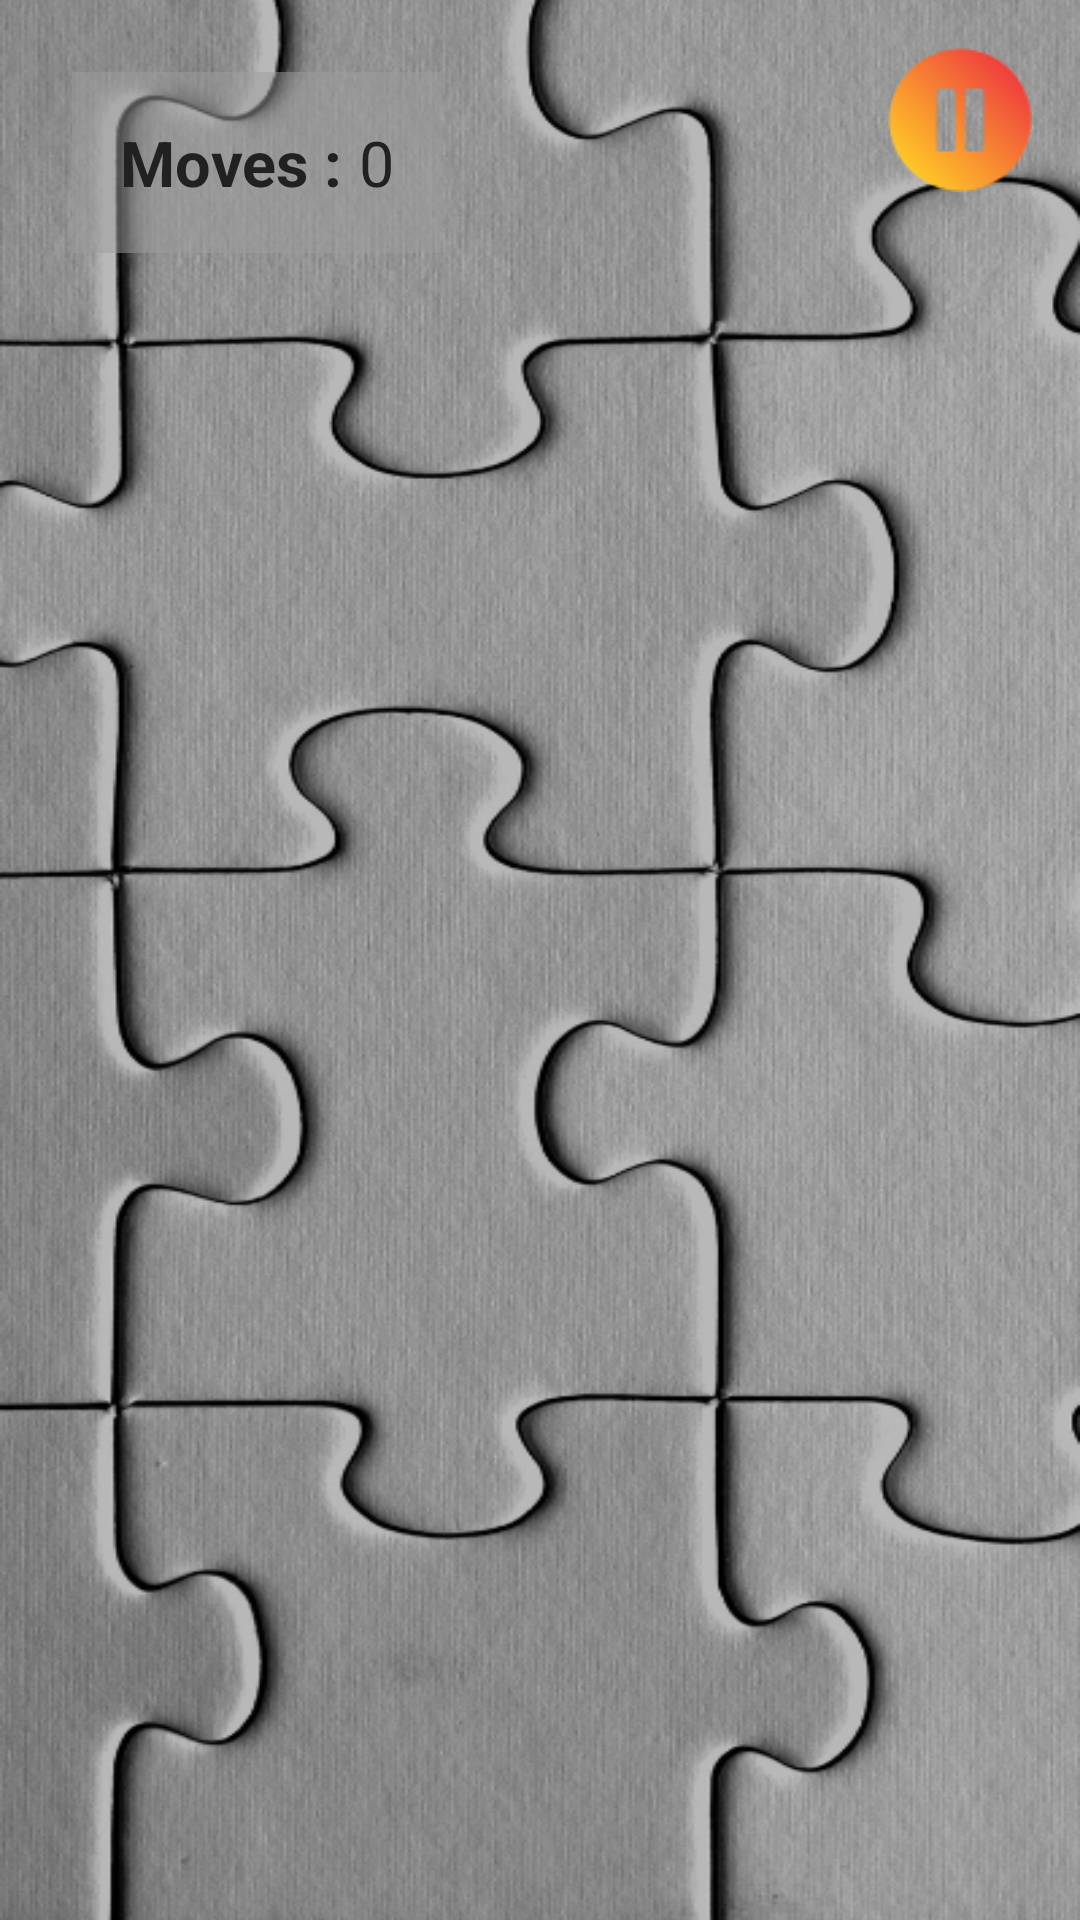

Icon click points for this 1080*1920 phone screenshot, format [x,y]:
pause: [960,120]
